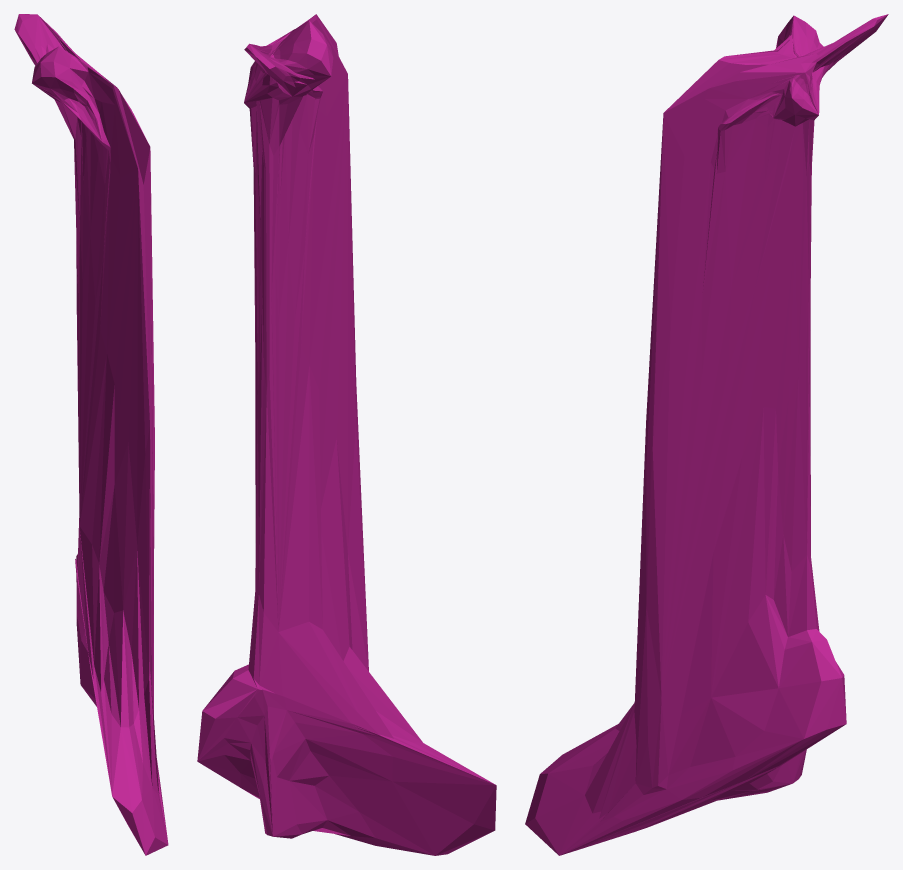
The picture shows the model from 3 angles, left to right: view 1: azimuth 30°, elevation 25°; view 2: azimuth 150°, elevation 25°; view 3: azimuth 270°, elevation 25°; orthographic projection. The views are drawn at different scales.
Visible parts, largest first — view 1: 757_Cube.3047; view 2: 757_Cube.3047; view 3: 757_Cube.3047.
Boxes of the visible parts, x1,y1,x2,y2 form: 757_Cube.3047: [14, 14, 168, 855]; 757_Cube.3047: [197, 14, 496, 855]; 757_Cube.3047: [525, 14, 888, 855].
Bounding box in the file's own units: 2.47 × 13.92 × 5.44.
